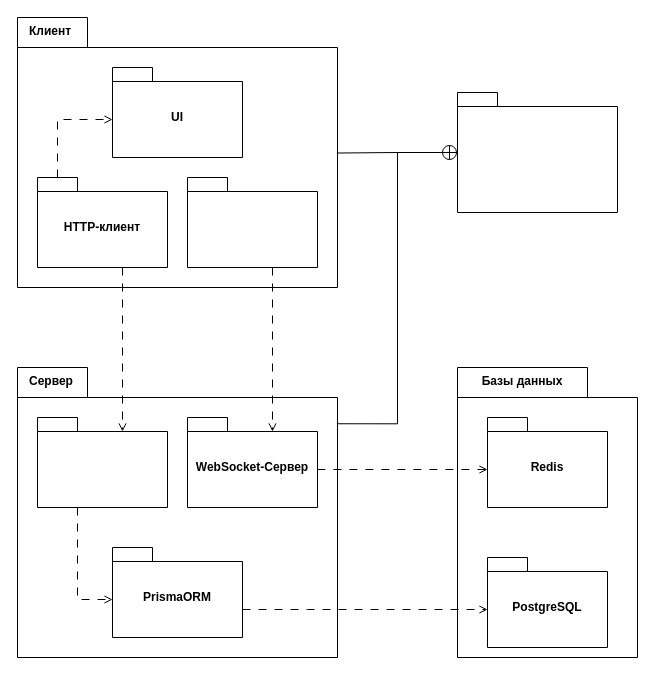
This 655x675 diagram has some shape labels left out. The centre of each missing label's shape, as x and y in pixels:
"CoMedia" belongs at (x=537, y=152).
"REST-Контроллеры" belongs at (x=102, y=462).
"WebSocket-клиент" belongs at (x=252, y=222).
